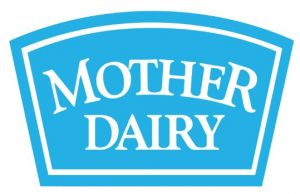Mother_Dairy: (4, 4, 299, 194)
